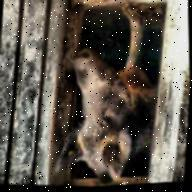boar: (56, 0, 178, 182)
